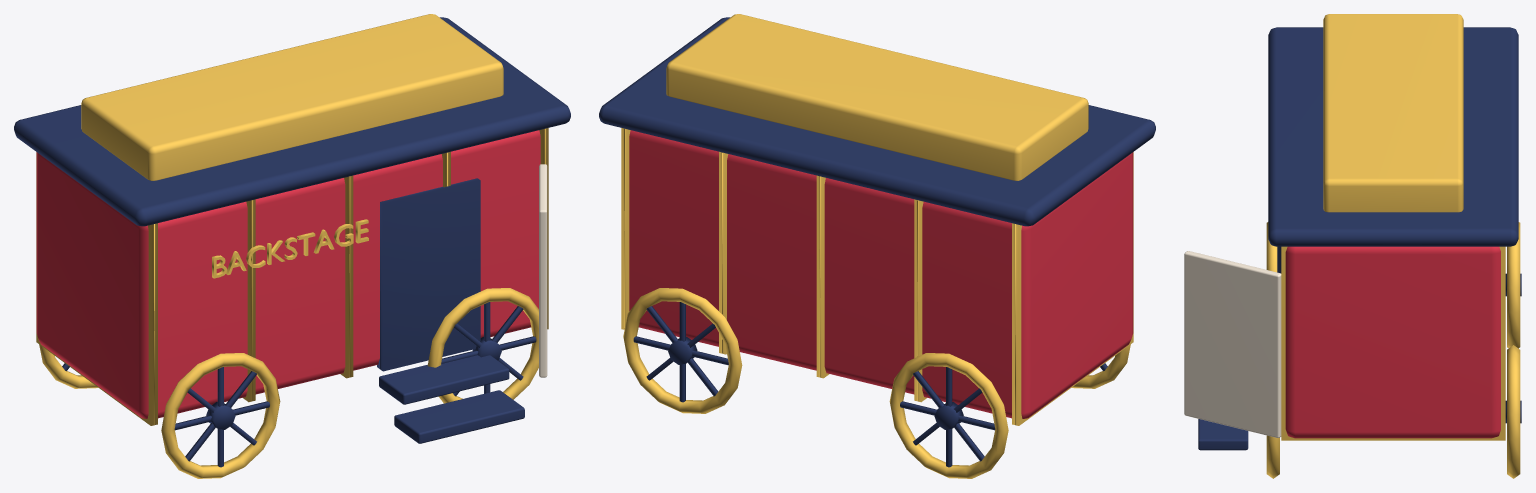
File: sky_wagon.glb
The picture shows the model from 3 angles, left to right: view 1: azimuth 30°, elevation 25°; view 2: azimuth 150°, elevation 25°; view 3: azimuth 270°, elevation 25°; orthographic projection. The views are drawn at different scales.
Parts seen in each view (by area): view 1: Wagon; view 2: Wagon; view 3: Wagon.
Part boxes in pixels (x1,y1,x2,y2): Wagon: [14, 14, 570, 478]; Wagon: [599, 14, 1155, 478]; Wagon: [1184, 14, 1521, 478].
Bounding box in the file's own units: 4.9 × 3.45 × 3.37.
